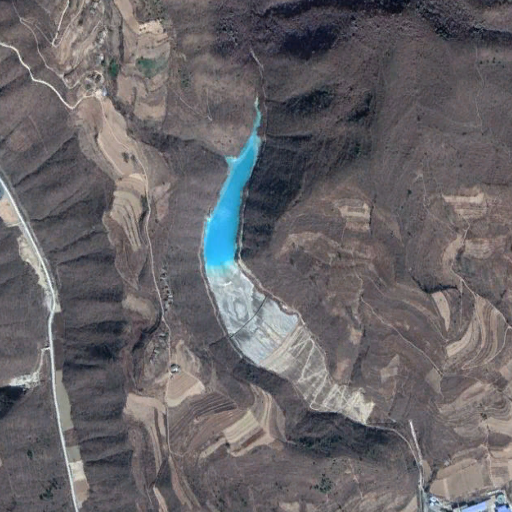tp: (197, 96, 378, 428)
